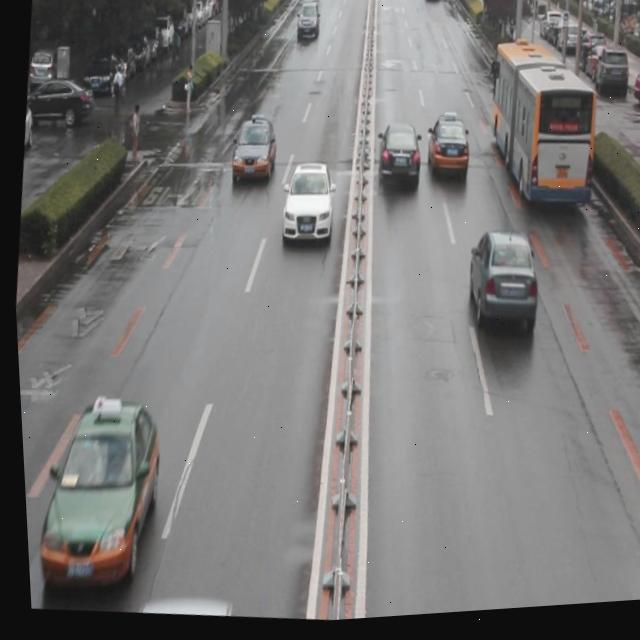car: (24, 389, 165, 593), (459, 233, 540, 349), (271, 158, 335, 256), (370, 124, 422, 203), (226, 116, 279, 191), (421, 118, 471, 189)
van: (476, 44, 601, 220)
